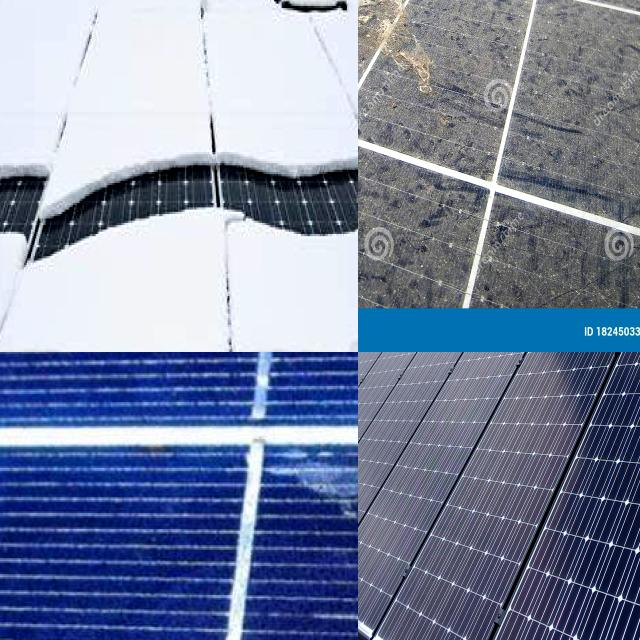bird: (358, 0, 449, 94)
crack: (604, 572, 640, 640), (504, 617, 599, 640)
panel: (150, 0, 318, 192), (25, 0, 137, 214), (41, 232, 229, 352), (234, 214, 358, 352), (0, 0, 64, 193), (0, 208, 76, 352)
